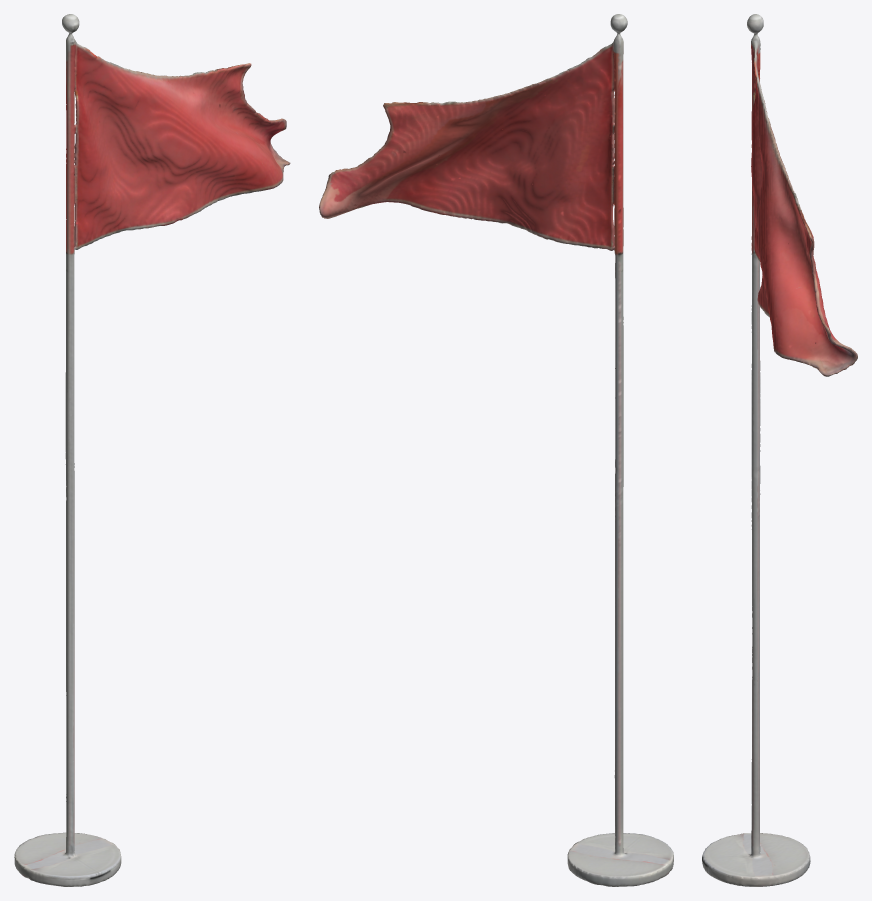
Rendered from Meshy_AI_Red_Flag_on_a_Flagpol_0304034440_texture.fbx.
3 views of the same model, side by side, from view 1: azimuth 30°, elevation 25°; view 2: azimuth 150°, elevation 25°; view 3: azimuth 270°, elevation 25° (orthographic).
Visible parts, largest first — view 1: Mesh_0; view 2: Mesh_0; view 3: Mesh_0.
Boxes of the visible parts, <box> form: Mesh_0: <box>14,14,290,886</box>; Mesh_0: <box>319,14,673,886</box>; Mesh_0: <box>702,14,857,886</box>.
Size of the model in its own units: 74.58 by 200 by 33.23.
1 material, 1 textured.
